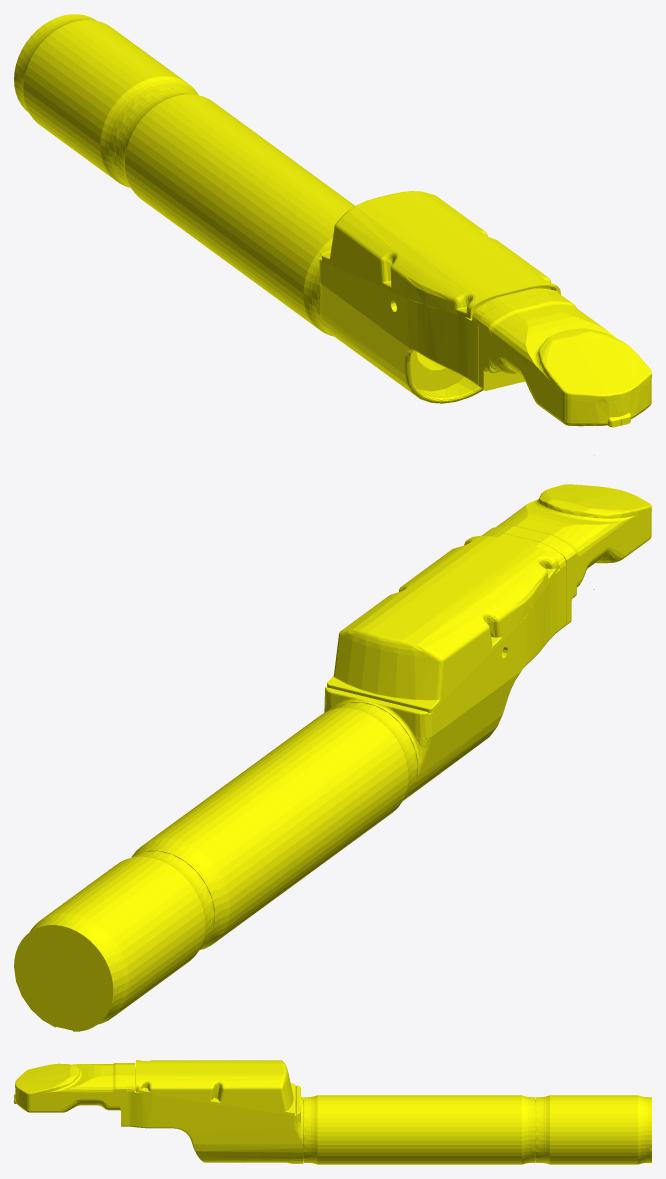
The picture shows the model from 3 angles, top to bottom: view 1: azimuth 30°, elevation 25°; view 2: azimuth 150°, elevation 25°; view 3: azimuth 270°, elevation 25°; orthographic projection. The views are drawn at different scales.
Parts seen in each view (by area): view 1: node; view 2: node; view 3: node.
Part boxes in pixels (x1,y1,x2,y2): node: (14, 14, 651, 455); node: (14, 484, 651, 1031); node: (14, 1060, 651, 1164).
Size of the model in its own units: 123 by 176 by 1098.
